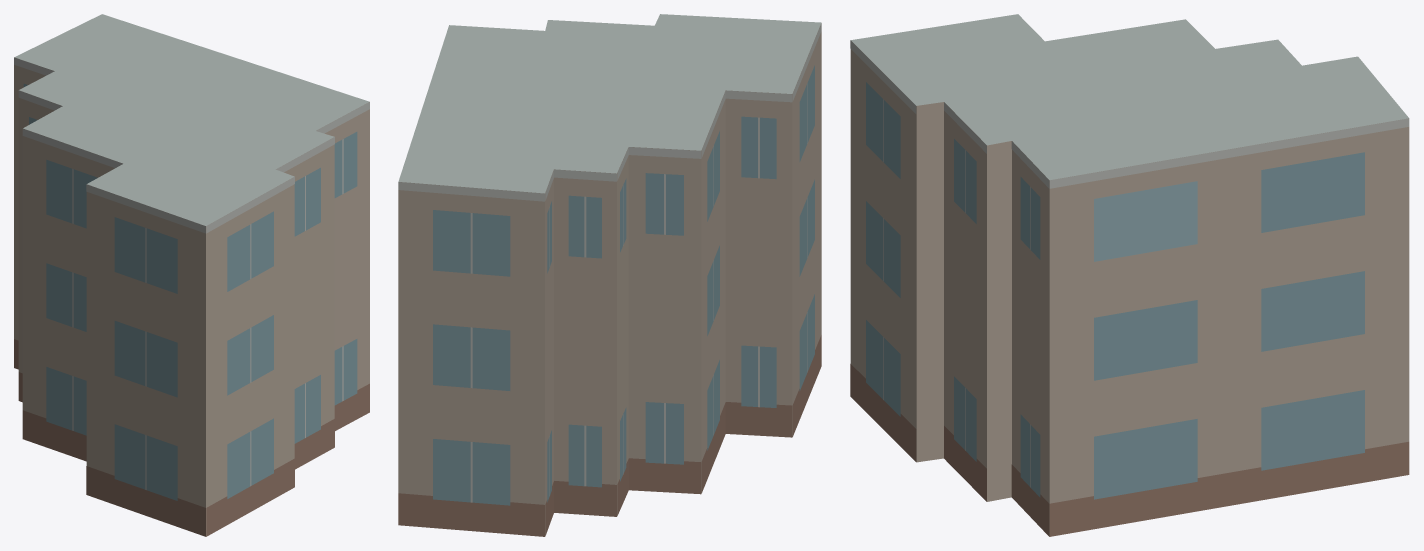
The model's file is survey-upis-32498058.glb.
3 views of the same model, side by side, from view 1: azimuth 30°, elevation 25°; view 2: azimuth 150°, elevation 25°; view 3: azimuth 270°, elevation 25° (orthographic). The views are drawn at different scales.
Visible parts, largest first — view 1: survey-upis-32498058.tmp; view 2: survey-upis-32498058.tmp; view 3: survey-upis-32498058.tmp.
Boxes of the visible parts, x1,y1,x2,y2 form: survey-upis-32498058.tmp: (14,14,369,536); survey-upis-32498058.tmp: (398,14,821,536); survey-upis-32498058.tmp: (850,14,1409,536).
Bounding box in the file's own units: 10.21 × 10.2 × 14.5.
